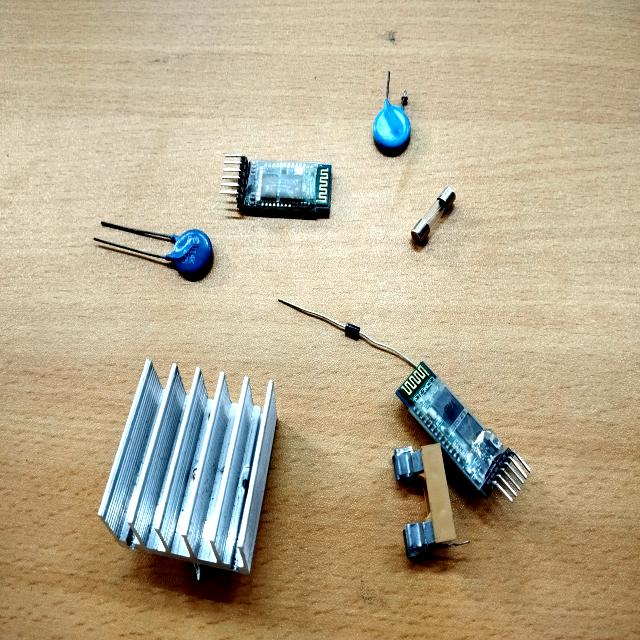capacitor: (101, 224, 214, 281), (373, 105, 410, 155)
